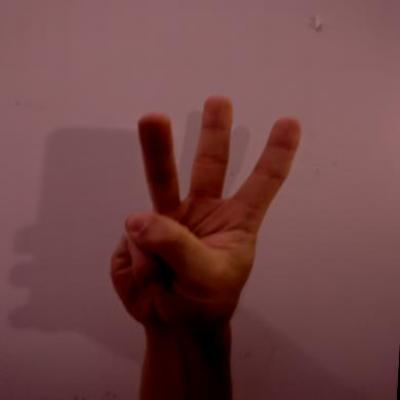hand: (102, 85, 307, 338)
